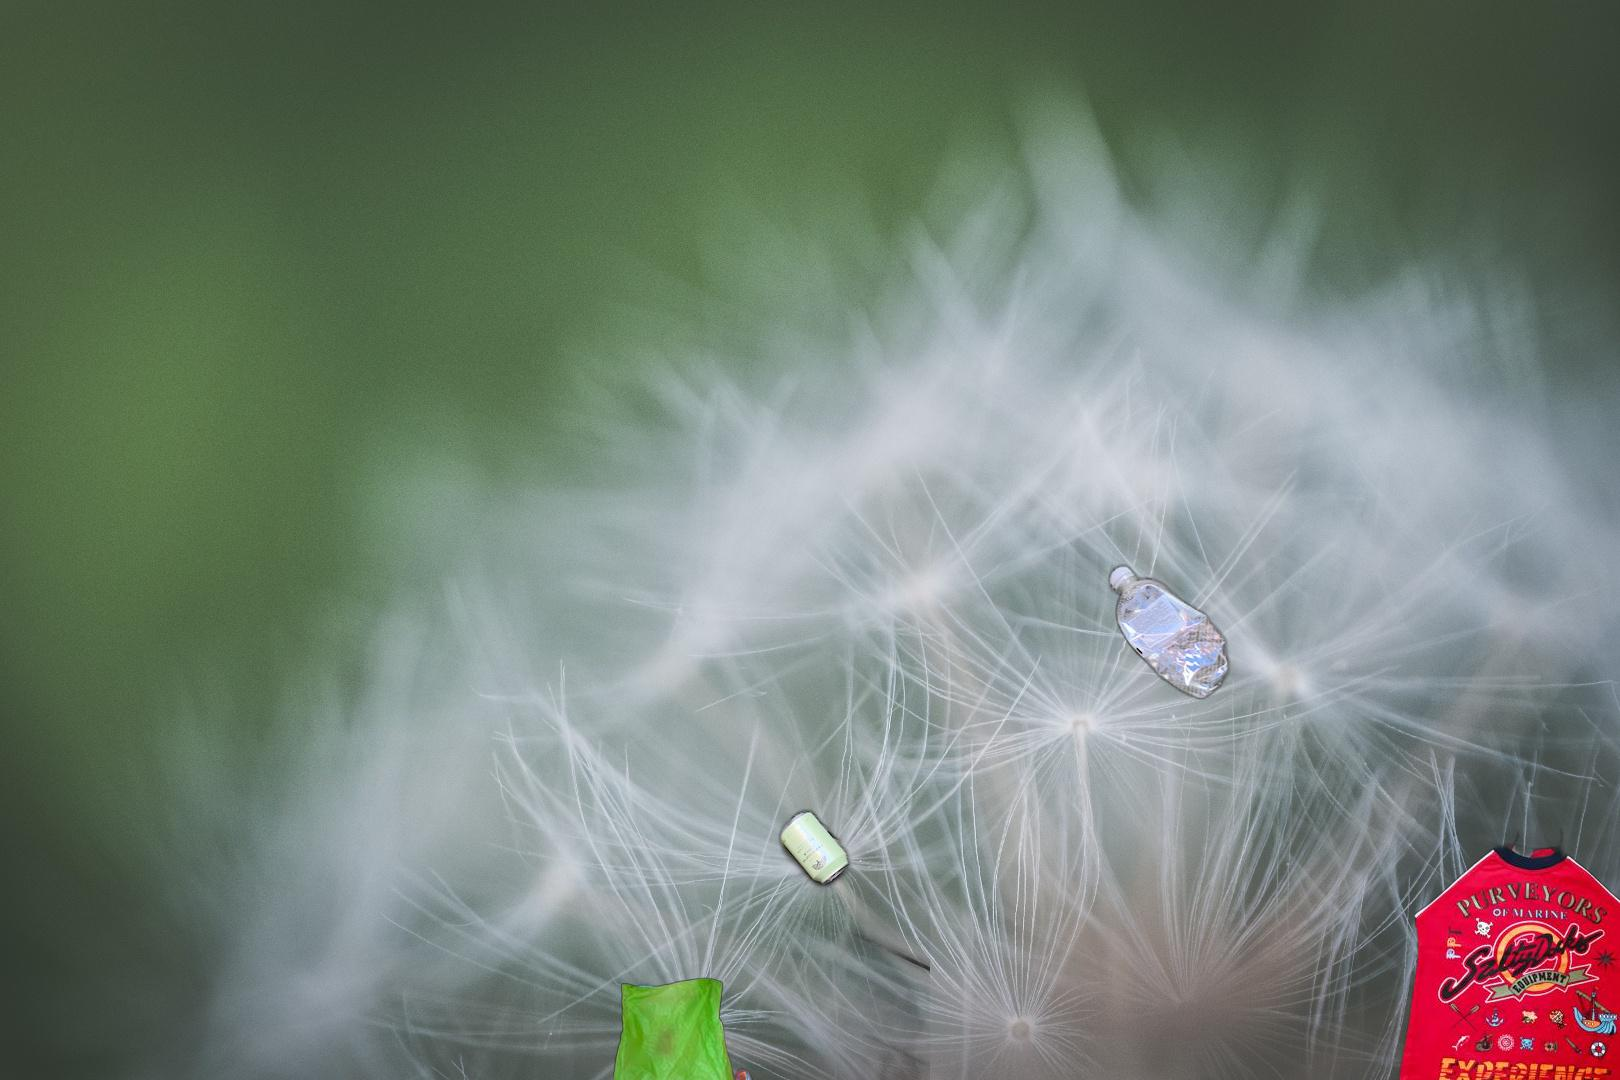clothes: (1395, 824, 1620, 1080)
metal-cans: (479, 805, 931, 1080)
plastic-bag: (607, 970, 773, 1080)
plastic-bottles: (1104, 560, 1234, 706)
